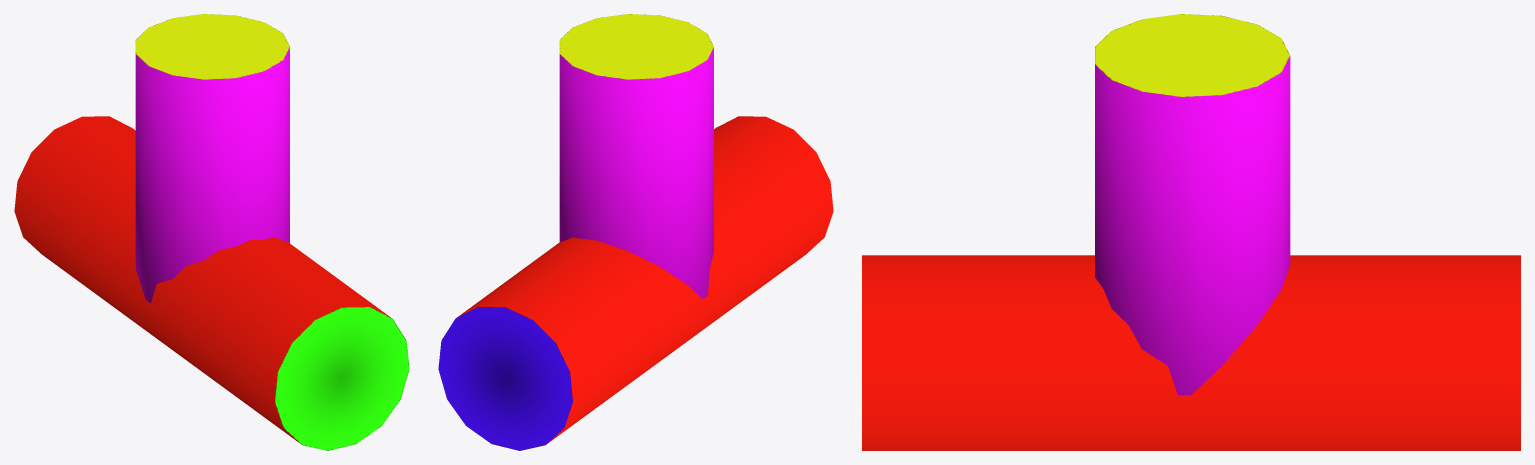
File: pipe_3way.glb
3 views of the same model, side by side, from view 1: azimuth 30°, elevation 25°; view 2: azimuth 150°, elevation 25°; view 3: azimuth 270°, elevation 25° (orthographic). The views are drawn at different scales.
Visible parts, largest first — view 1: pipe_3way.001; view 2: pipe_3way.001; view 3: pipe_3way.001.
Boxes of the visible parts, x1,y1,x2,y2 form: pipe_3way.001: [14, 14, 409, 450]; pipe_3way.001: [438, 14, 833, 450]; pipe_3way.001: [862, 14, 1520, 450].
Size of the model in its own units: 0.5967 by 1.29 by 2.
Materials: 1 (1 with a texture image).
